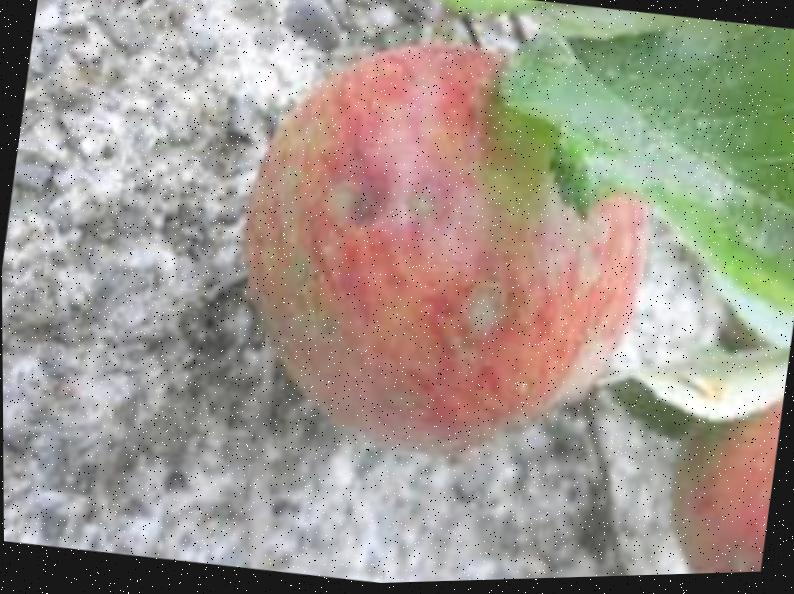BLOTCH: (201, 2, 688, 471)
